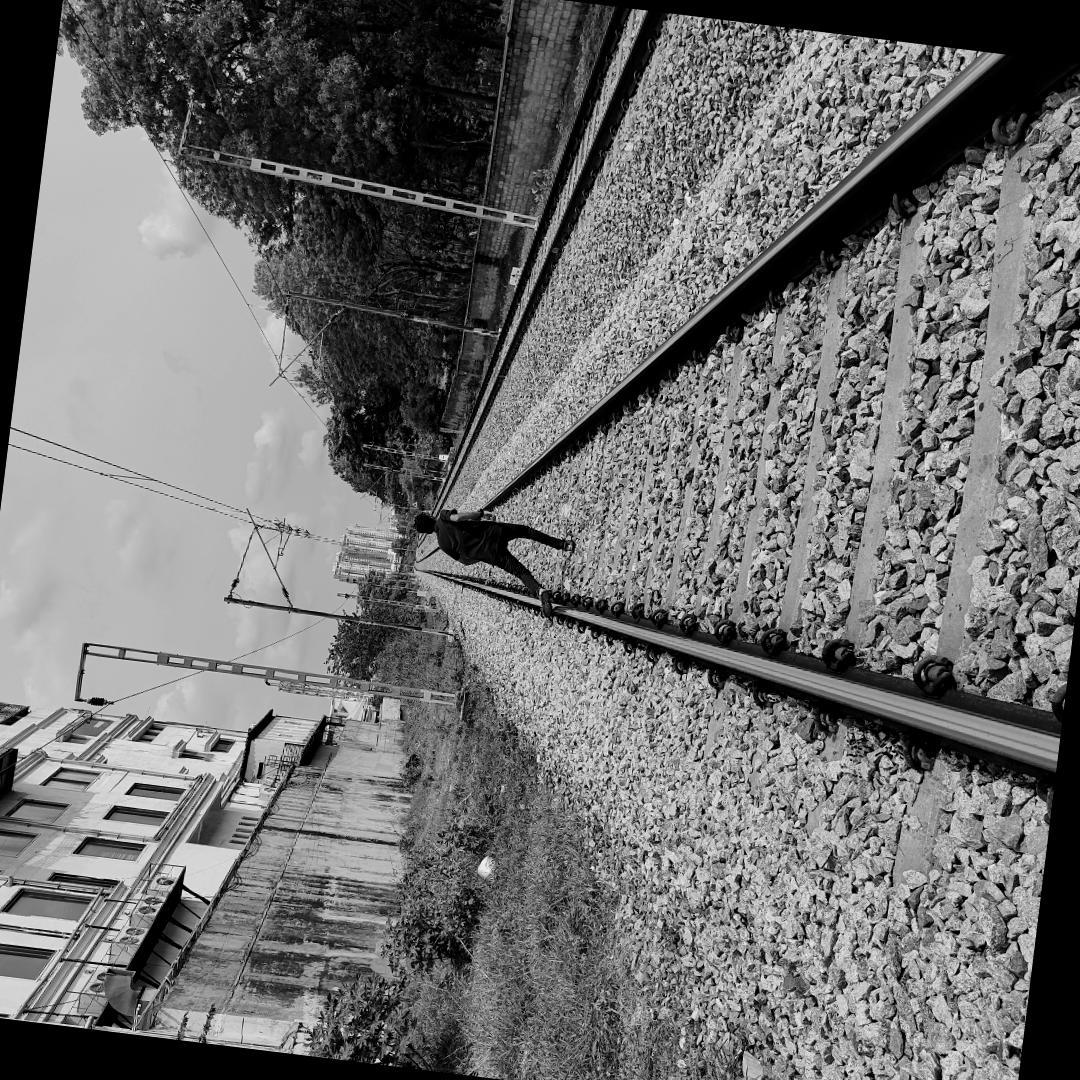standing: (407, 495, 586, 634)
track: (416, 38, 1080, 930)
